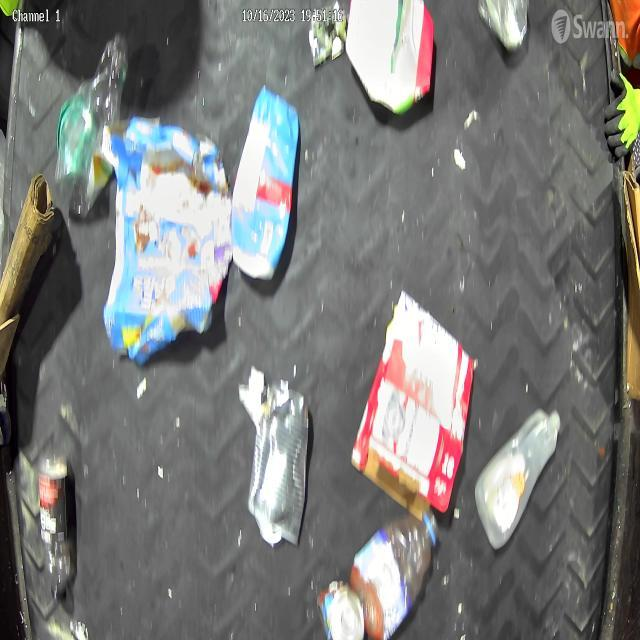can: (248, 386, 312, 560), (316, 576, 366, 640)
milk_jug: (476, 410, 564, 554)
non_white_jug: (346, 0, 438, 119)
plastic_bottle: (55, 34, 129, 218), (356, 516, 440, 640), (32, 454, 74, 606)
